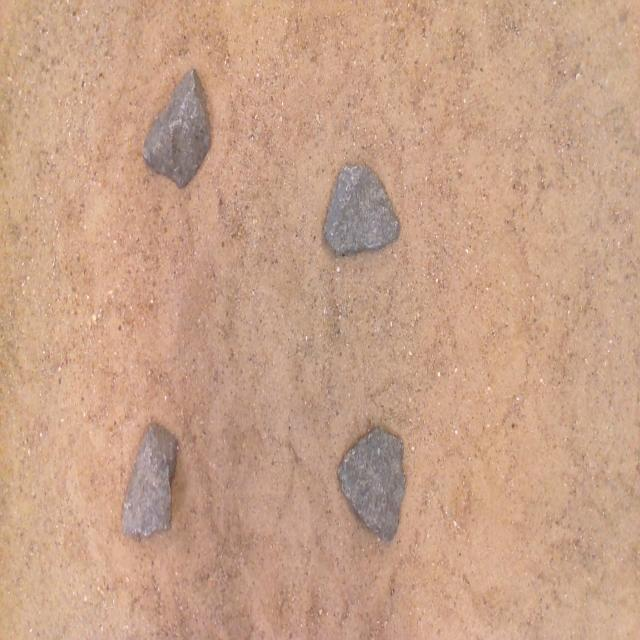rock: (143, 68, 210, 187), (338, 428, 405, 540), (324, 165, 400, 255), (122, 424, 177, 535)
